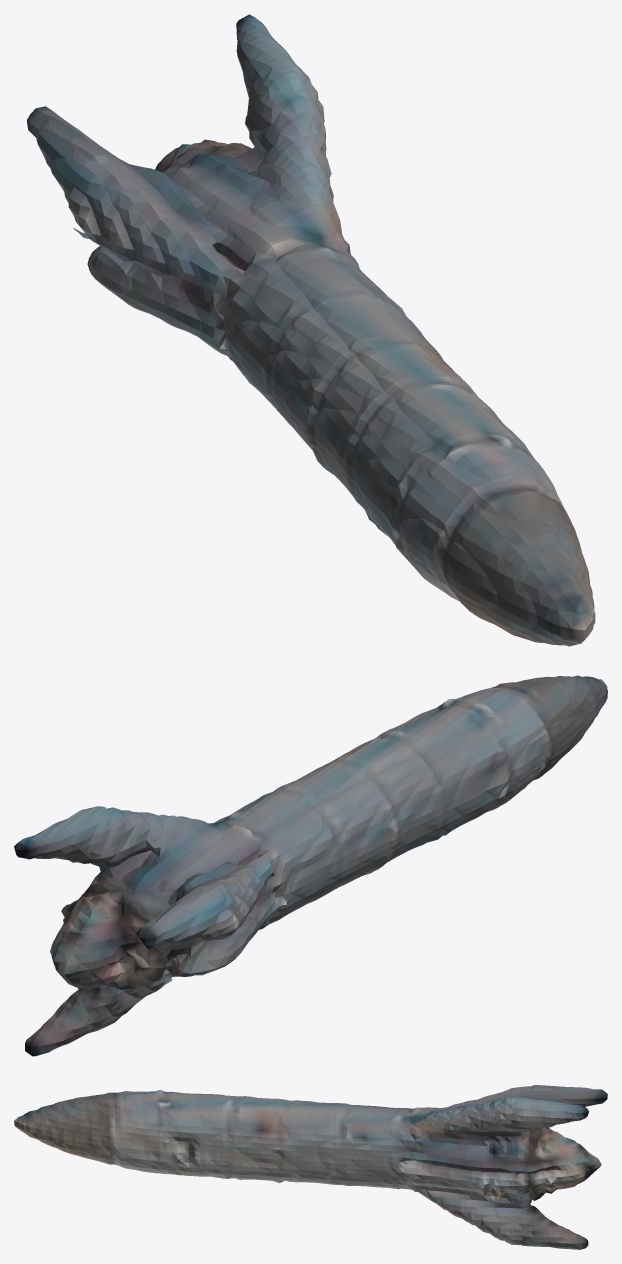
3 views of the same model, one above another, from view 1: azimuth 30°, elevation 25°; view 2: azimuth 150°, elevation 25°; view 3: azimuth 270°, elevation 25° (orthographic). The views are drawn at different scales.
Parts seen in each view (by area): view 1: world; view 2: world; view 3: world.
Part boxes in pixels (x1=…): world: x1=27, y1=14, x2=595, y2=646; world: x1=14, y1=675, x2=607, y2=1056; world: x1=14, y1=1085, x2=607, y2=1249.
Bounding box in the file's own units: 0.2597 × 0.2623 × 0.9542.
